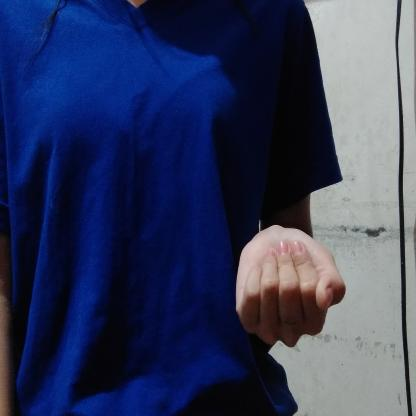where: (220, 214, 355, 354)
